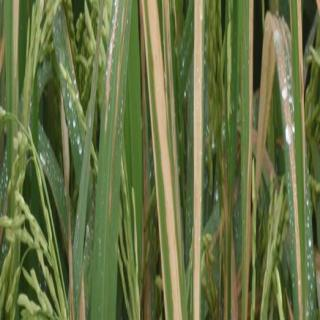Hawar-Daun: (140, 3, 216, 320), (61, 3, 125, 316), (253, 19, 299, 264)
